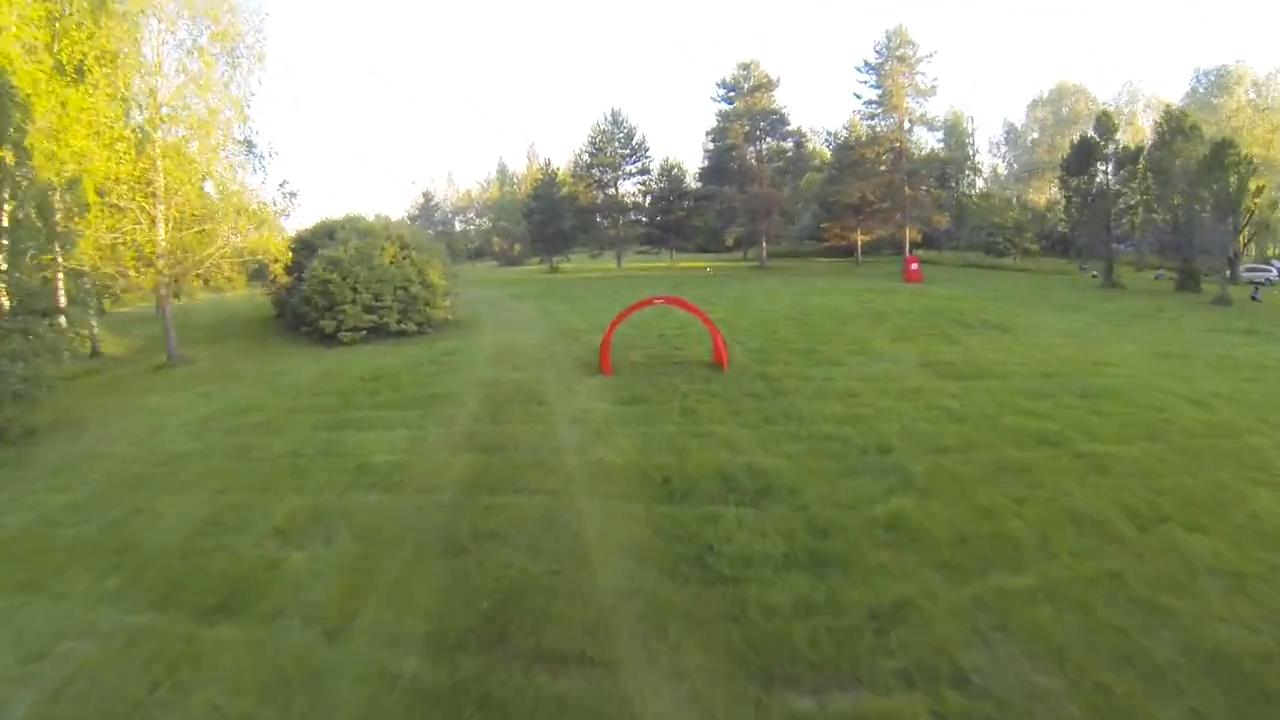gate: (594, 294, 732, 375)
